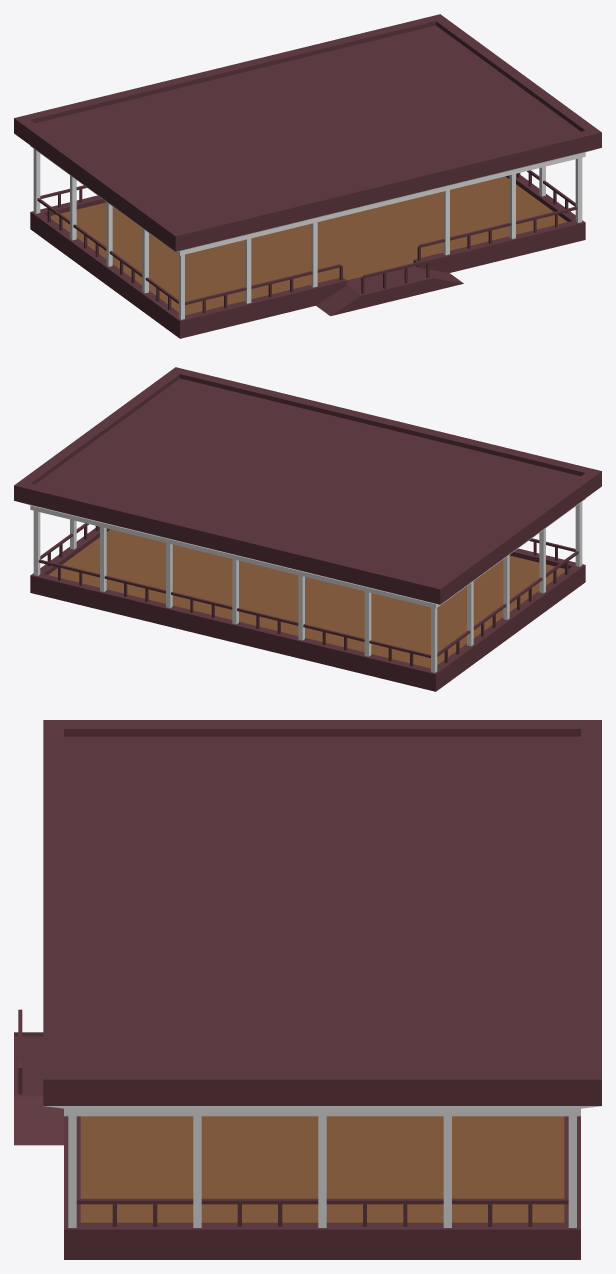
The model's file is bumper-cars-booth.fbx.
3 views of the same model, one above another, from view 1: azimuth 30°, elevation 25°; view 2: azimuth 150°, elevation 25°; view 3: azimuth 270°, elevation 25° (orthographic). The views are drawn at different scales.
Parts seen in each view (by area): view 1: bumper-cars-booth; view 2: bumper-cars-booth; view 3: bumper-cars-booth.
Boxes of the visible parts, x1=… form: bumper-cars-booth: x1=14, y1=14, x2=601, y2=338; bumper-cars-booth: x1=14, y1=367, x2=601, y2=691; bumper-cars-booth: x1=14, y1=720, x2=601, y2=1259.
Size of the model in its own units: 20.4 by 5 by 14.1.
